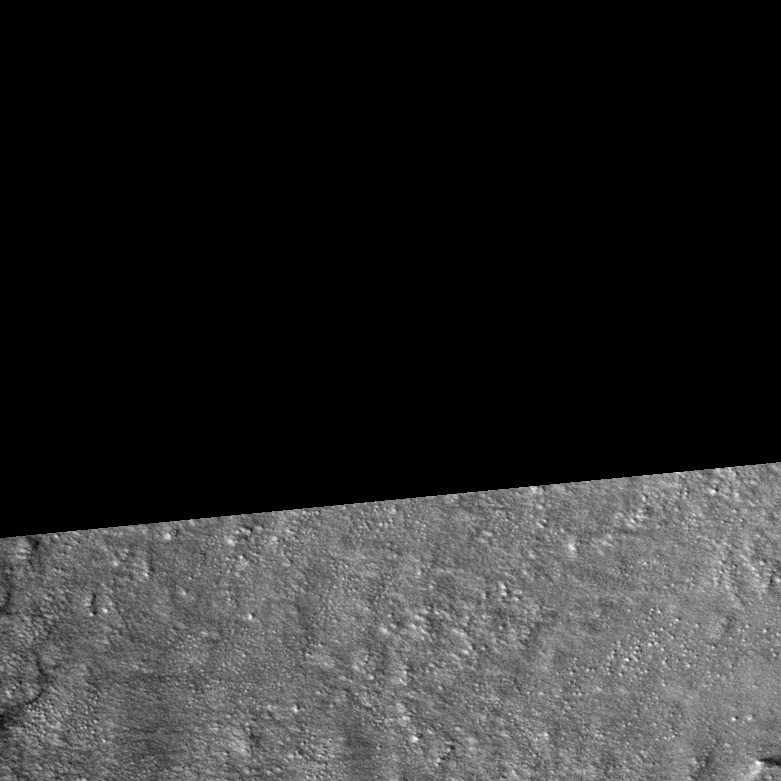dust_devil: (745, 755, 781, 781)
